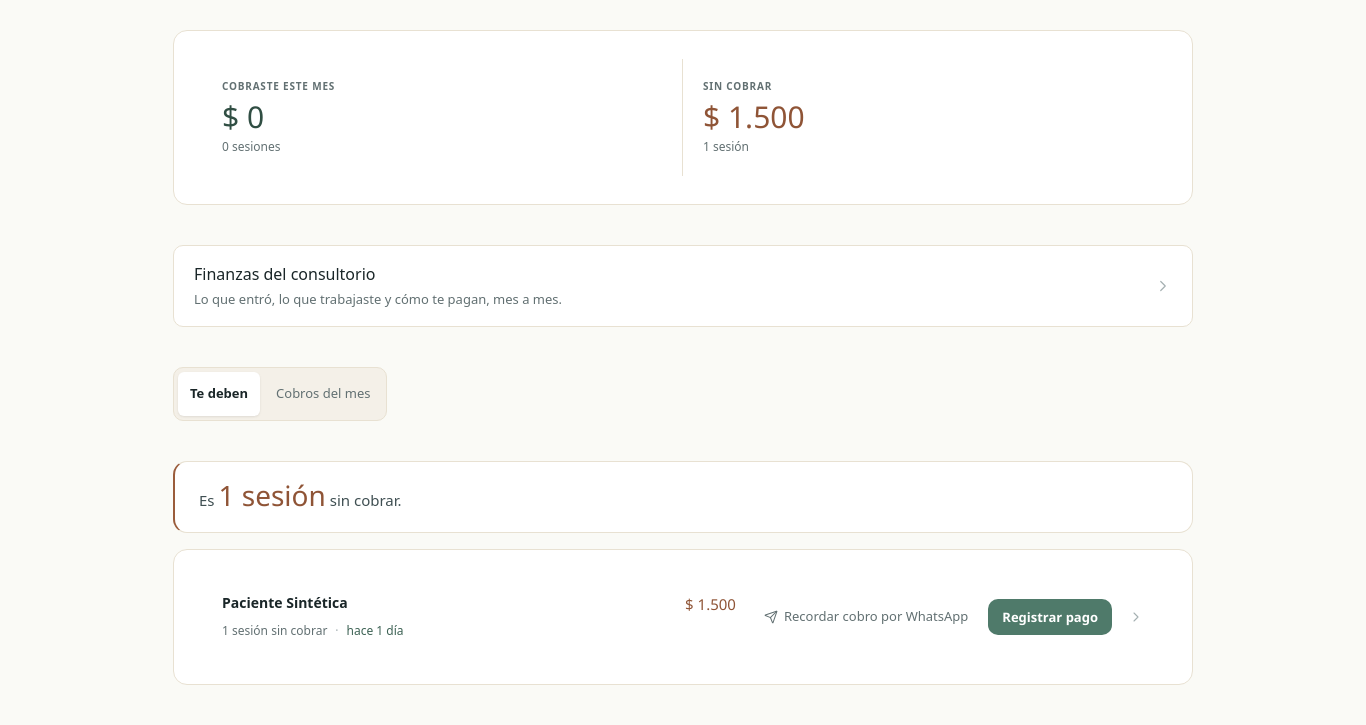
Test: los avisos distinguen un rechazo de una operación confirmada › aviso de cobro por WhatsApp: éxito=true
(page scrolled)
Click the button with aria-label "Recordar cobro a". click: [866, 617]
box: [752, 599, 980, 635]
(page scrolled)
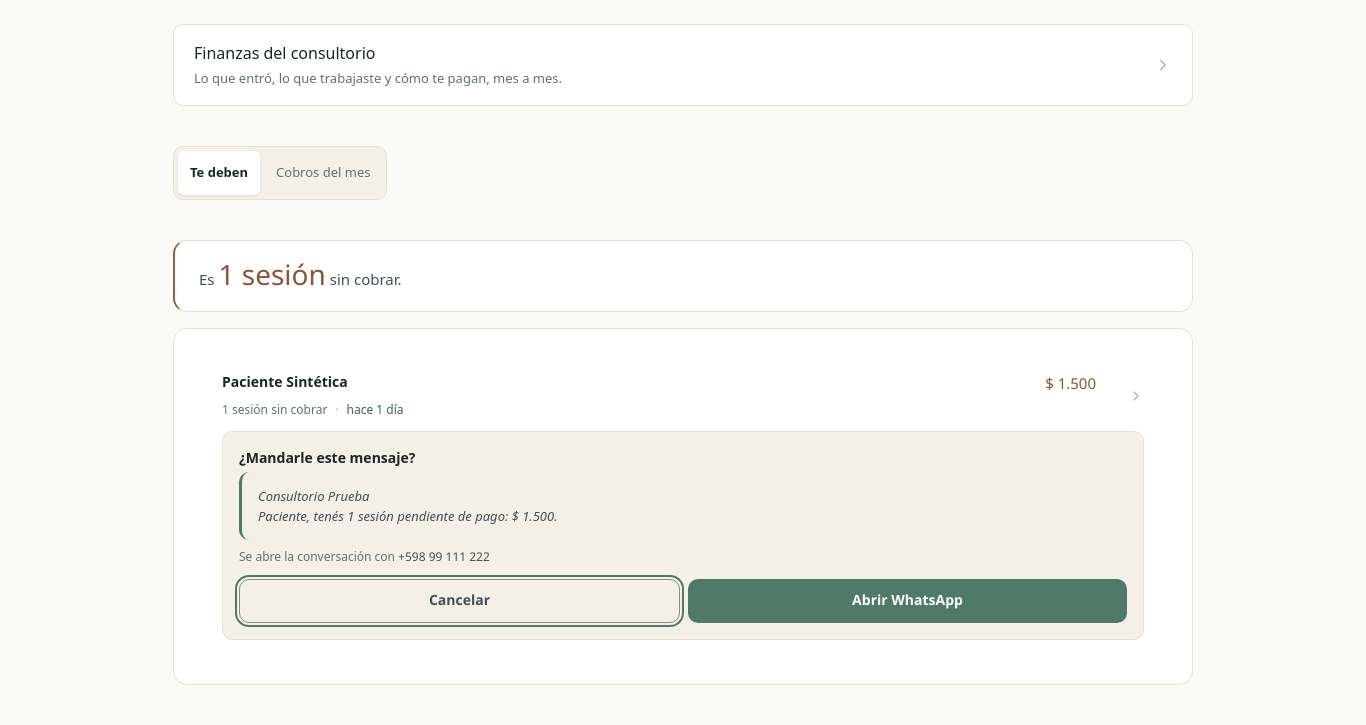
Click the button "Abrir WhatsApp". click: [908, 601]
box: [688, 579, 1127, 623]
(page scrolled)
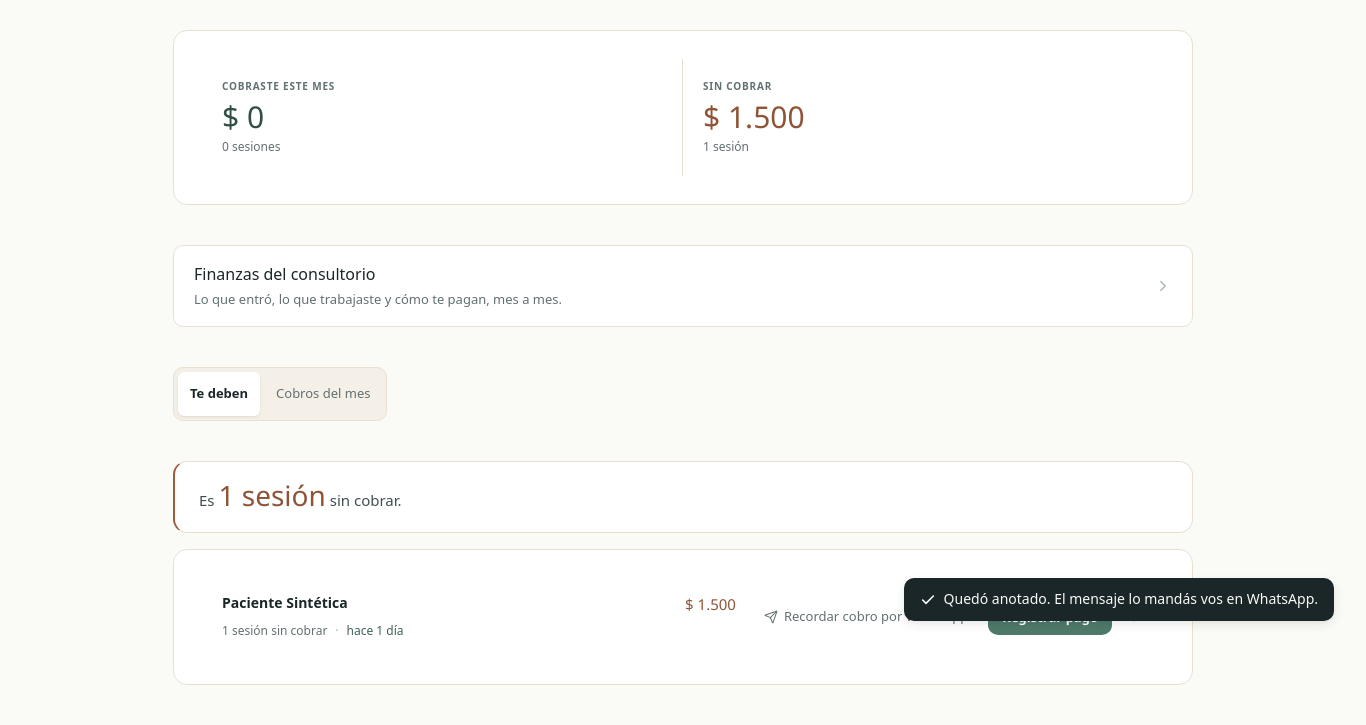
Now the message "Quedó anotado. El mensaje lo mandás vos en WhatsApp." is shown, box [904, 578, 1334, 621]
